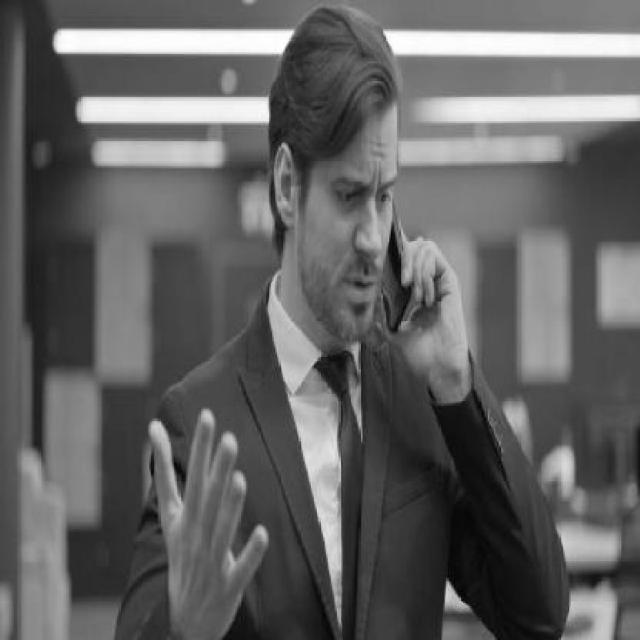angry: (317, 149, 400, 306)
